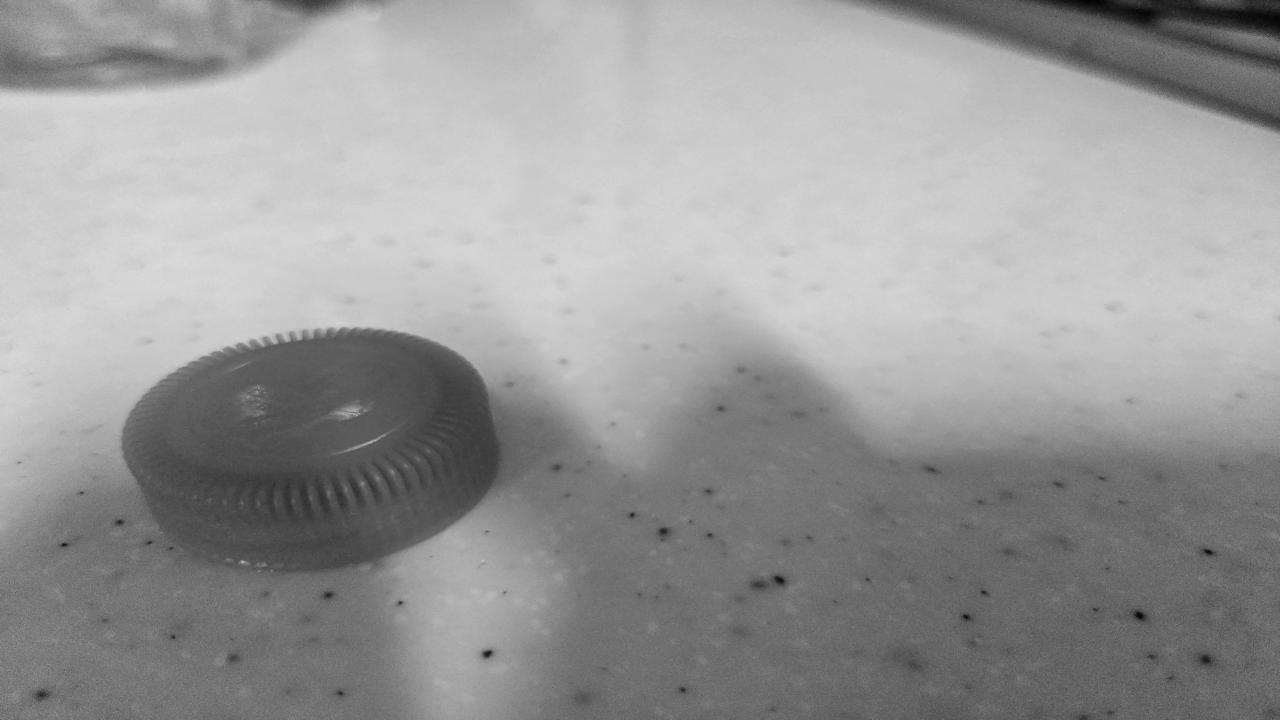bottle_cap: (114, 324, 508, 572)
